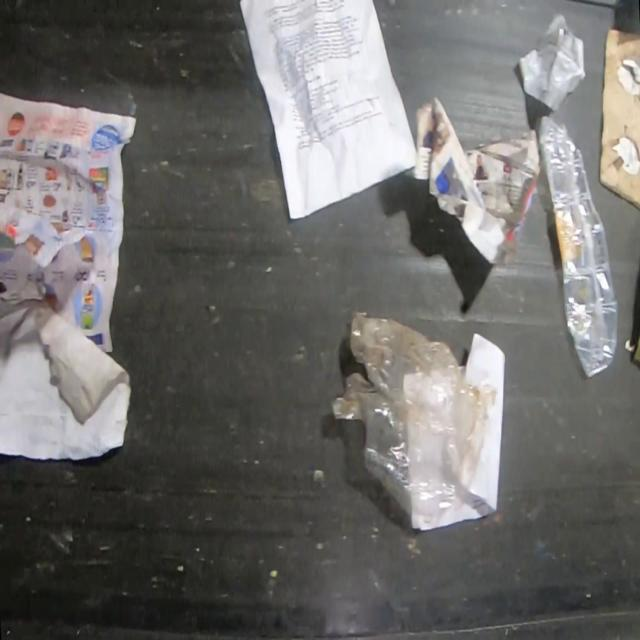cardboard: (598, 29, 640, 208)
rigid_plastic: (538, 106, 618, 380)
soft_plastic: (332, 311, 494, 515)
